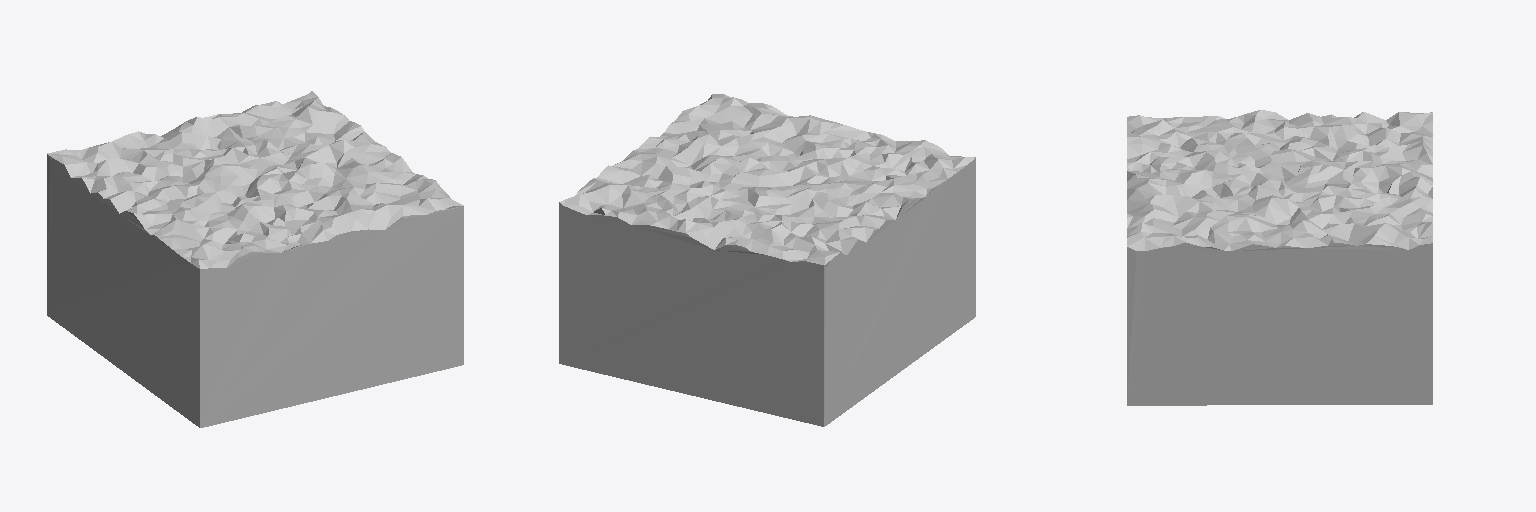
Rendered from water_000007.obj.
3 views of the same model, side by side, from view 1: azimuth 30°, elevation 25°; view 2: azimuth 150°, elevation 25°; view 3: azimuth 270°, elevation 25° (orthographic).
Parts seen in each view (by area): view 1: Plane; view 2: Plane; view 3: Plane.
Part boxes in pixels (x1,y1,x2,y2): Plane: (47, 91, 463, 427); Plane: (559, 94, 975, 426); Plane: (1127, 110, 1432, 405).
Bounding box in the file's own units: 16.15 × 9.9 × 16.12.